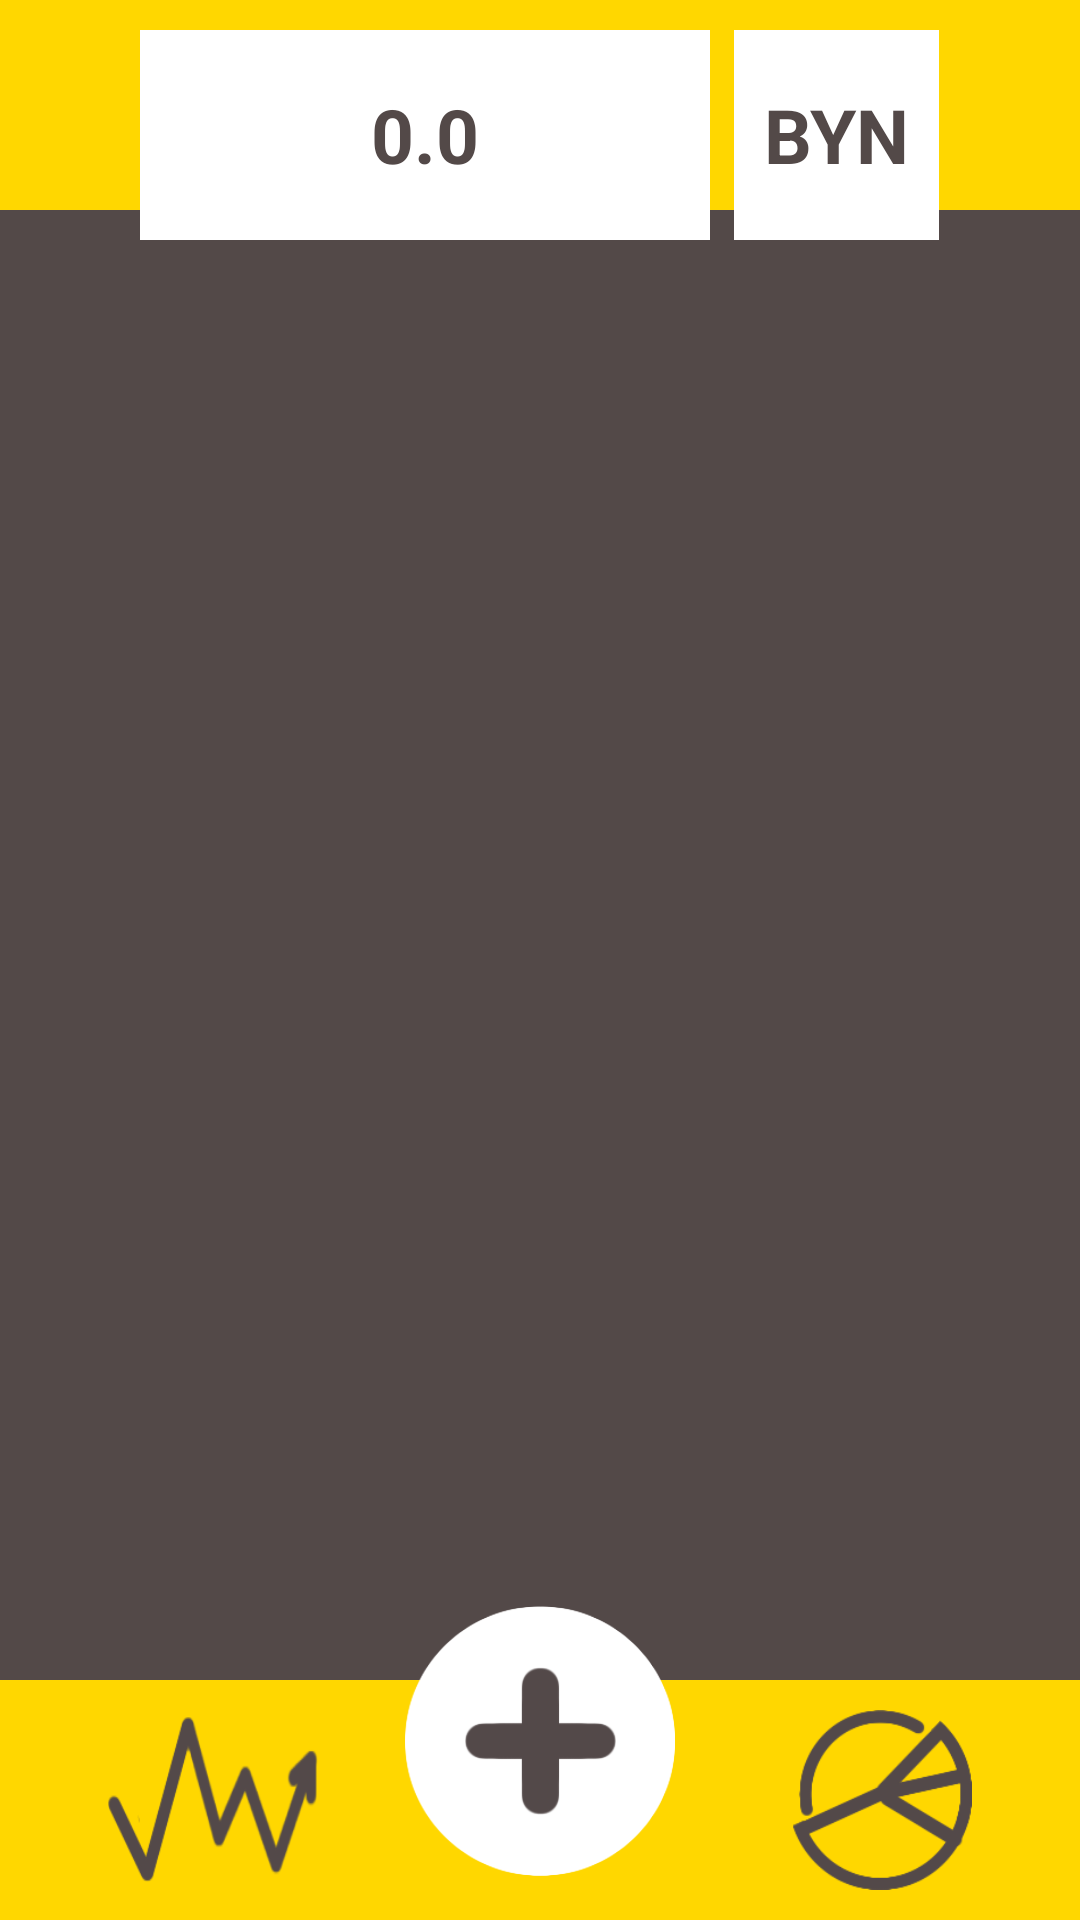

Locate icon controls on the screen. Image size 1080px x 1920px, boxes as (x1, y1, x2, y2).
add: (405, 1606, 675, 1876)
